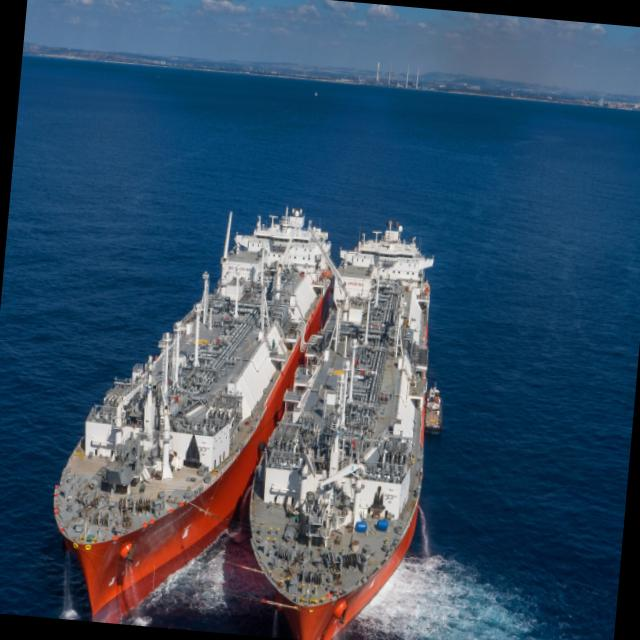boat: (45, 167, 339, 639), (225, 200, 464, 640)
